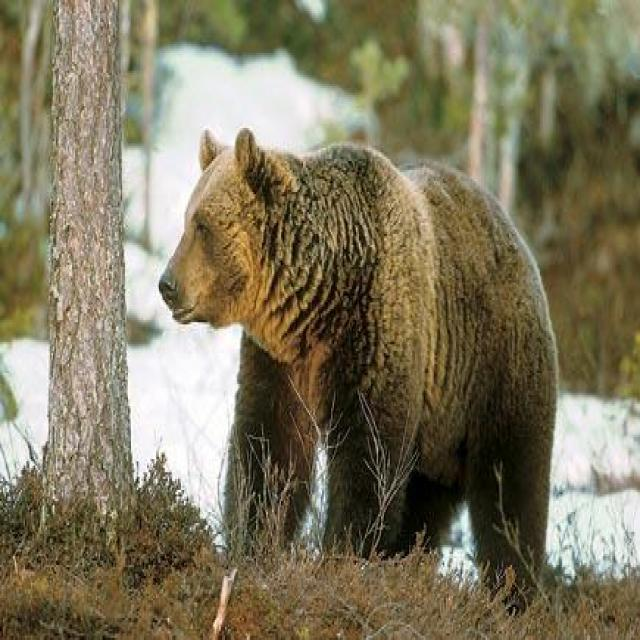Bear: (157, 130, 561, 616)
